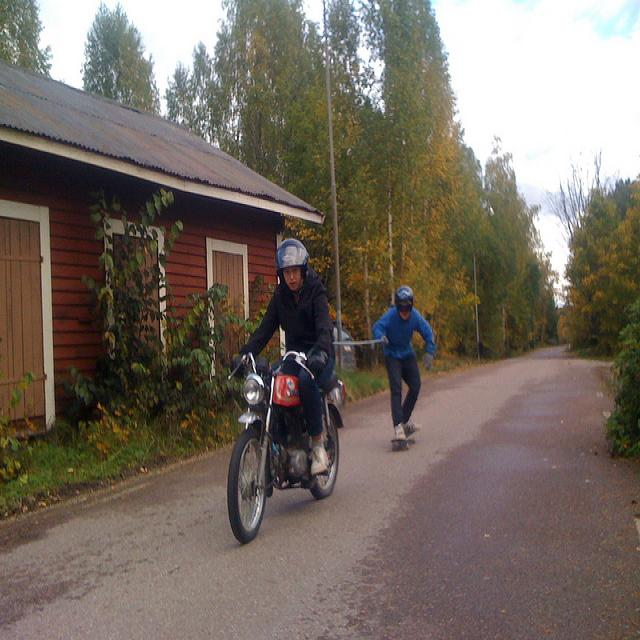motor: (220, 346, 347, 542)
